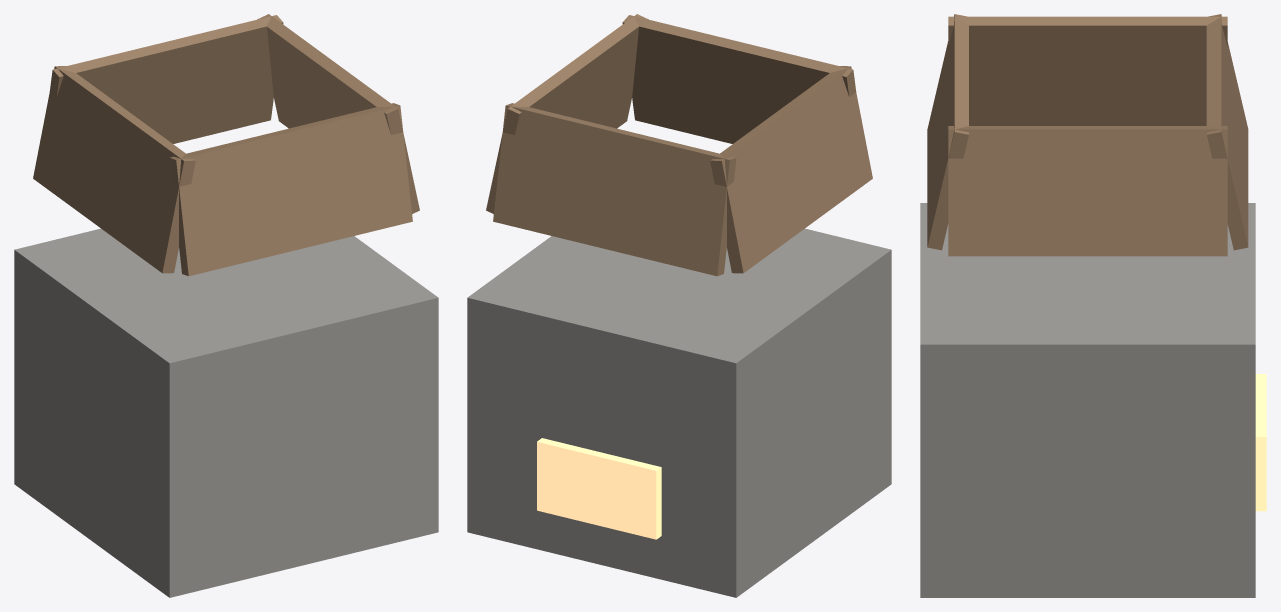
Rendered from build_kiln.glb.
3 renders of one model, left to right at view 1: azimuth 30°, elevation 25°; view 2: azimuth 150°, elevation 25°; view 3: azimuth 270°, elevation 25°, orthographic. The views are drawn at different scales.
Parts seen in each view (by area): view 1: Baked; view 2: Baked; view 3: Baked.
Part boxes in pixels (box(x1,y1,x2,y2)): Baked: box(14, 14, 438, 597); Baked: box(467, 14, 891, 597); Baked: box(920, 14, 1266, 597).
Bounding box in the file's own units: 0.9 × 1.35 × 0.93.
